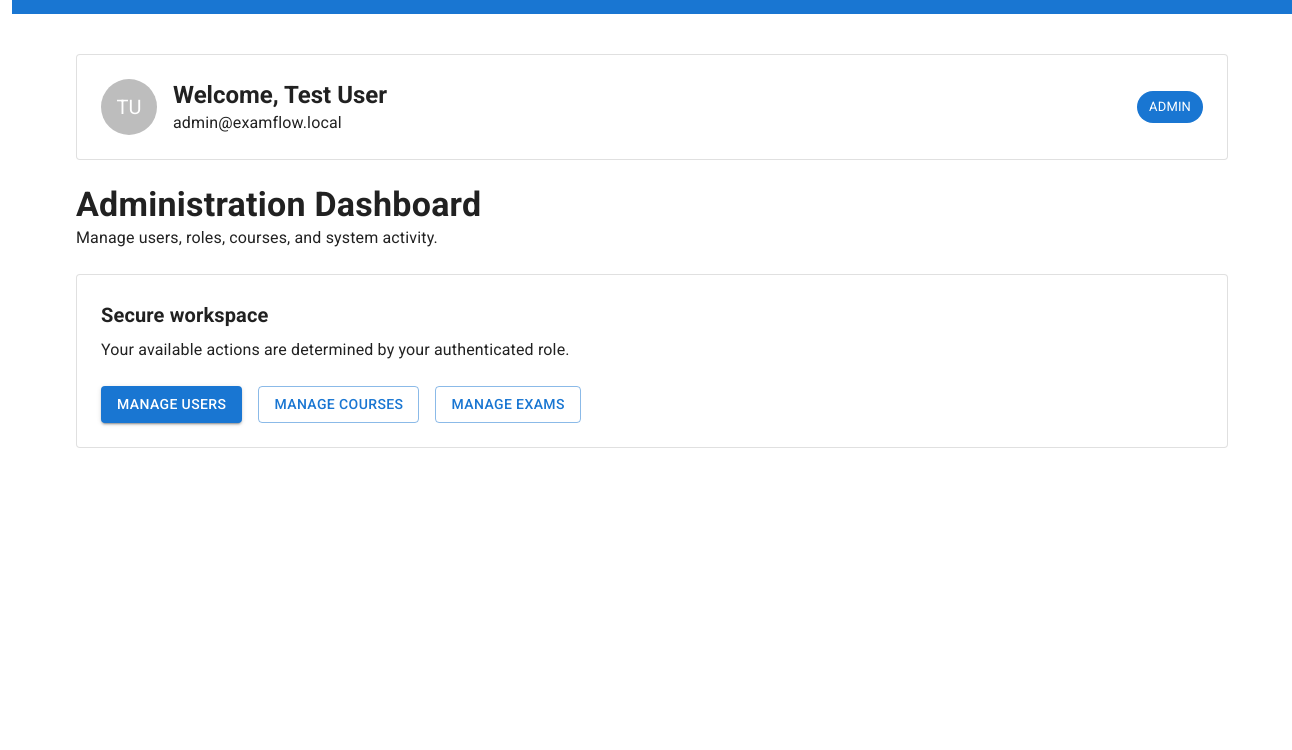
Test case: DashboardPage › shows all management actions to an admin
Expected: the heading "Administration Dashboard" is shown, [76, 184, 481, 224]
Expected: the button "Manage courses" is shown, [258, 386, 420, 422]
Step 1. Click the button "Manage users" → click(172, 404), box [101, 386, 242, 422]
(page scrolled)
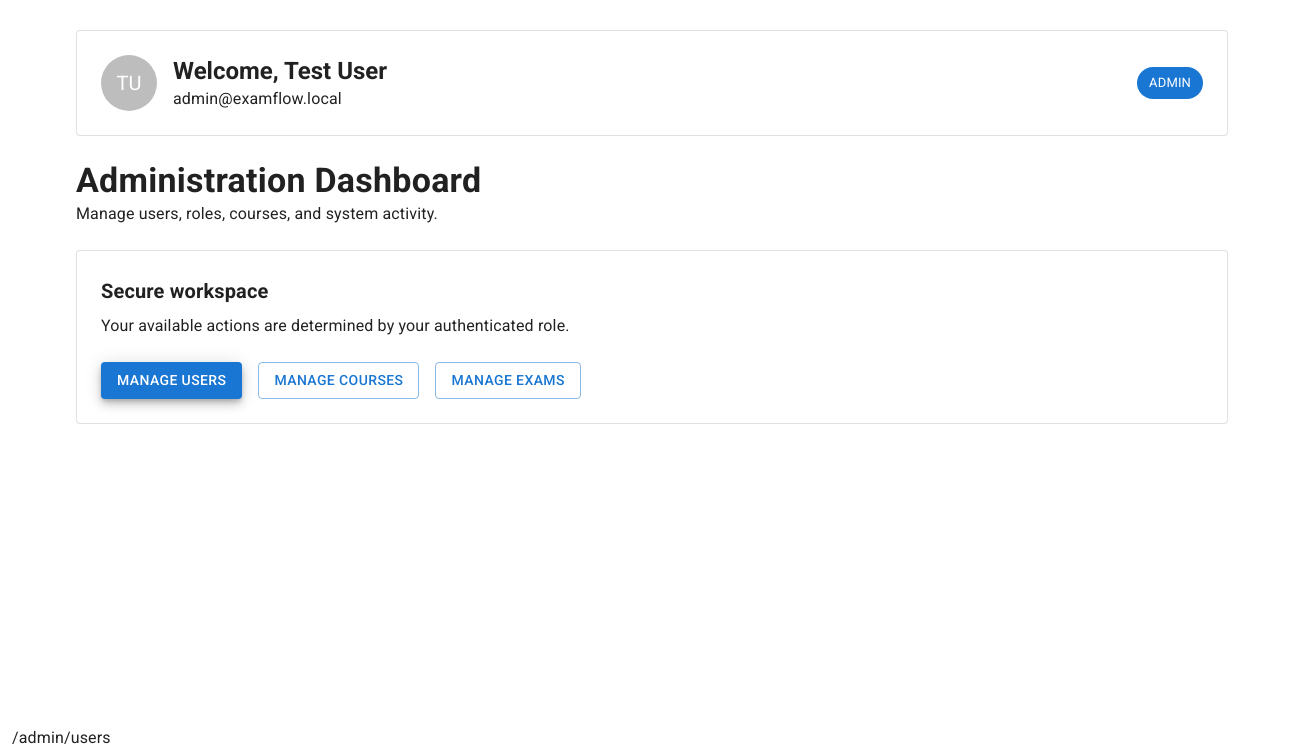
Expected: the text with test id "current-location" reads "/admin/users", [12, 728, 111, 747]
